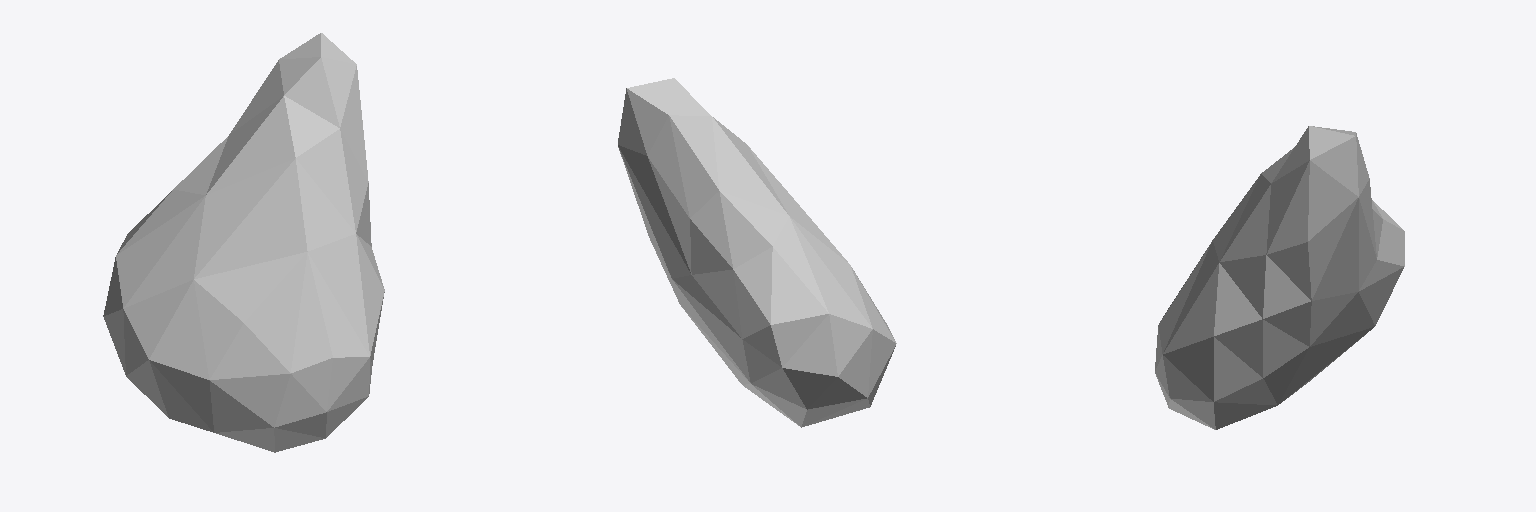
The model's file is left_substantia_nigra.obj.
The picture shows the model from 3 angles: view 1: azimuth 30°, elevation 25°; view 2: azimuth 150°, elevation 25°; view 3: azimuth 270°, elevation 25°; orthographic projection.
Parts seen in each view (by area): view 1: left_substantia_nigra_left_substantia_nigra; view 2: left_substantia_nigra_left_substantia_nigra; view 3: left_substantia_nigra_left_substantia_nigra.
Part boxes in pixels (left/top/right/bottom): left_substantia_nigra_left_substantia_nigra: left=103, top=33, right=384, bottom=452; left_substantia_nigra_left_substantia_nigra: left=618, top=78, right=896, bottom=427; left_substantia_nigra_left_substantia_nigra: left=1155, top=126, right=1404, bottom=429.
Size of the model in its own units: 0.5948 by 0.8157 by 0.5432.